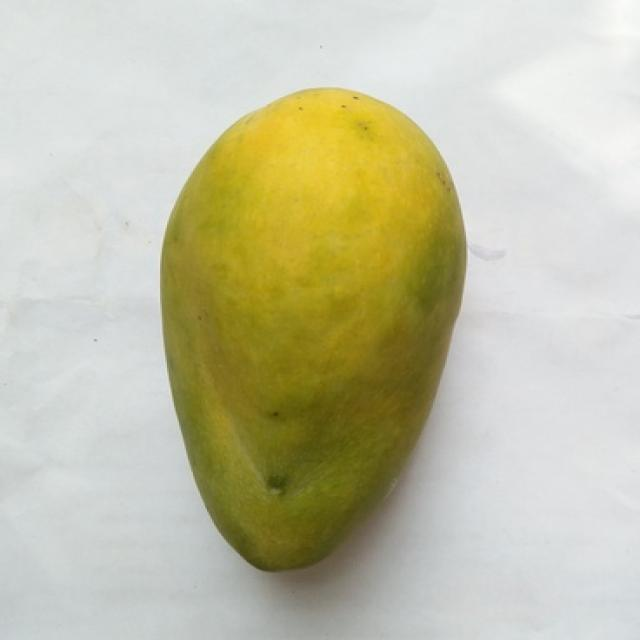Mango: (162, 88, 464, 570)
